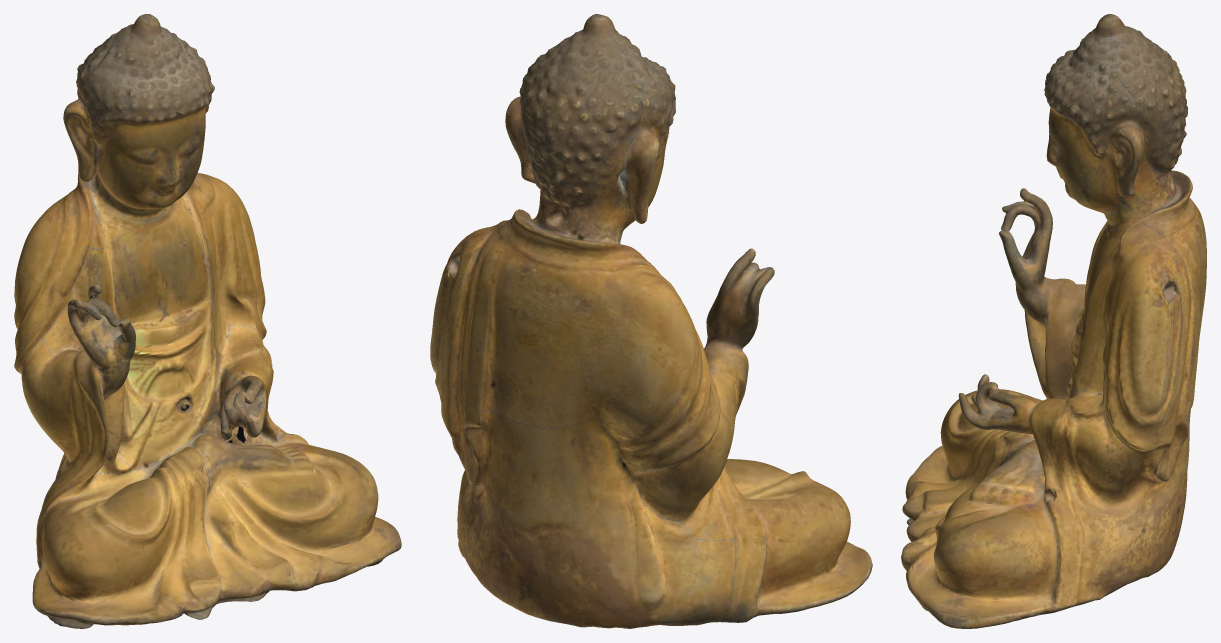
The model's file is buddha.glb.
3 renders of one model, left to right at view 1: azimuth 30°, elevation 25°; view 2: azimuth 150°, elevation 25°; view 3: azimuth 270°, elevation 25°, orthographic. The views are drawn at different scales.
Parts seen in each view (by area): view 1: NMK_Goryeo_Amitabha_duk002116_002; view 2: NMK_Goryeo_Amitabha_duk002116_002; view 3: NMK_Goryeo_Amitabha_duk002116_002.
Boxes of the visible parts, <box> form: NMK_Goryeo_Amitabha_duk002116_002: <box>14,14,401,628</box>; NMK_Goryeo_Amitabha_duk002116_002: <box>430,14,872,628</box>; NMK_Goryeo_Amitabha_duk002116_002: <box>901,14,1206,628</box>.
Bounding box in the file's own units: 0.7043 × 1 × 0.5238.
1 material, 1 textured.
